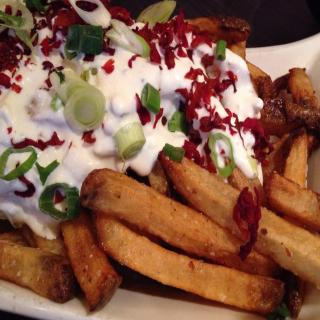French fries: (0, 10, 320, 320)
